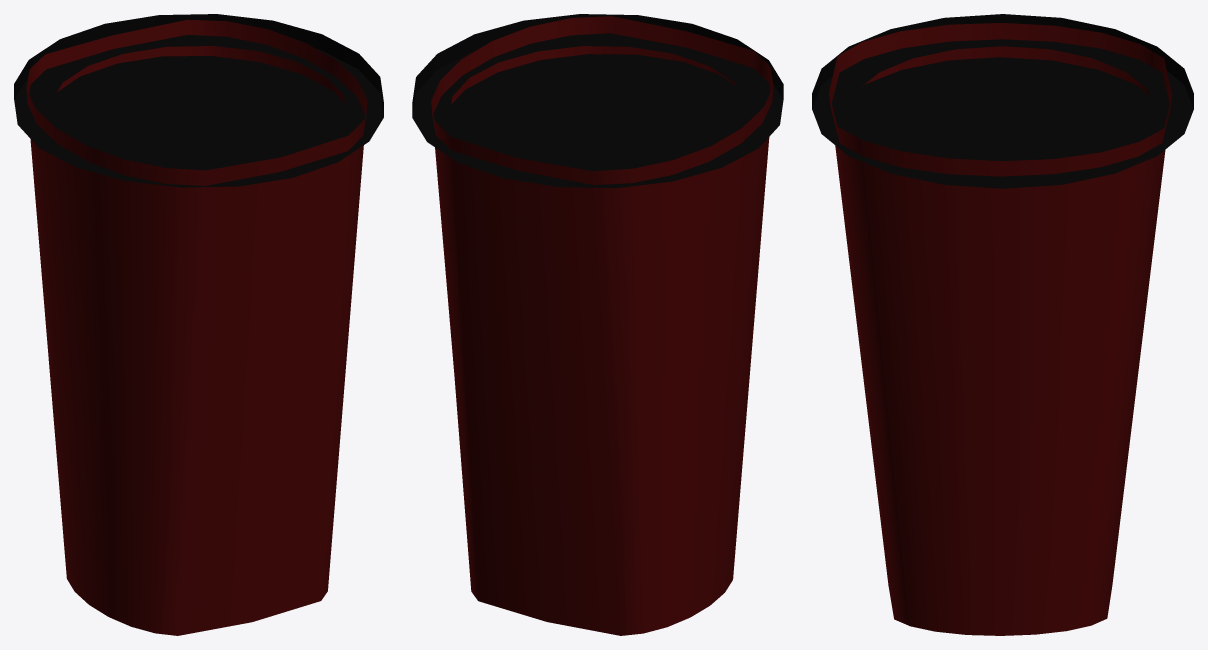
Rendered from New Cup.obj.
The picture shows the model from 3 angles, left to right: view 1: azimuth 30°, elevation 25°; view 2: azimuth 150°, elevation 25°; view 3: azimuth 270°, elevation 25°; orthographic projection.
Visible parts, largest first — view 1: pCylinder1, pCylinder3, pCylinder4; view 2: pCylinder1, pCylinder3, pCylinder4; view 3: pCylinder1, pCylinder3, pCylinder4.
Part boxes in pixels (x1,y1,x2,y2): pCylinder1: (26,19,367,635); pCylinder3: (51,56,346,170); pCylinder4: (14,14,383,187); pCylinder1: (431,16,773,635); pCylinder3: (449,54,746,171); pCylinder4: (412,14,783,188); pCylinder1: (829,23,1172,635); pCylinder3: (850,57,1155,161); pCylinder4: (812,14,1193,188).
Bounding box in the file's own units: 0.2485 × 0.3618 × 0.2531.
